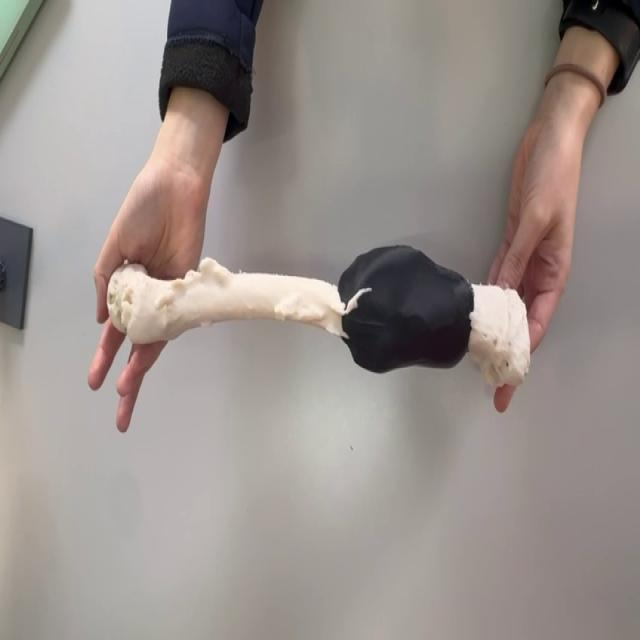bones: (108, 246, 530, 386)
